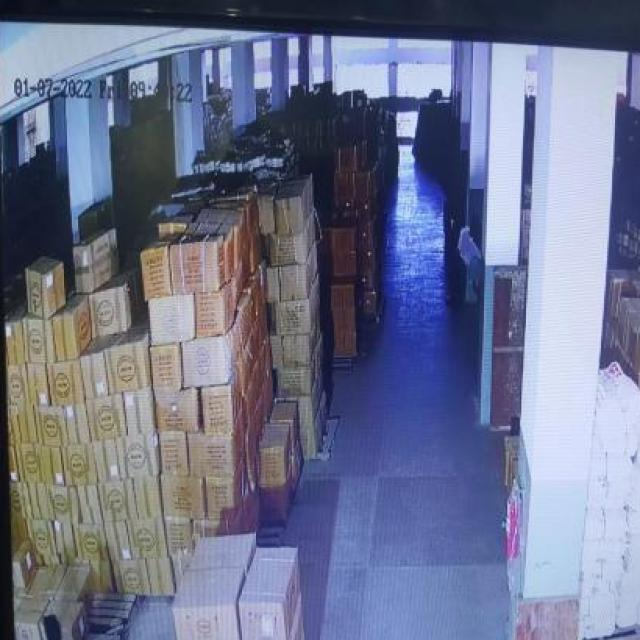fire: (458, 223, 480, 270)
